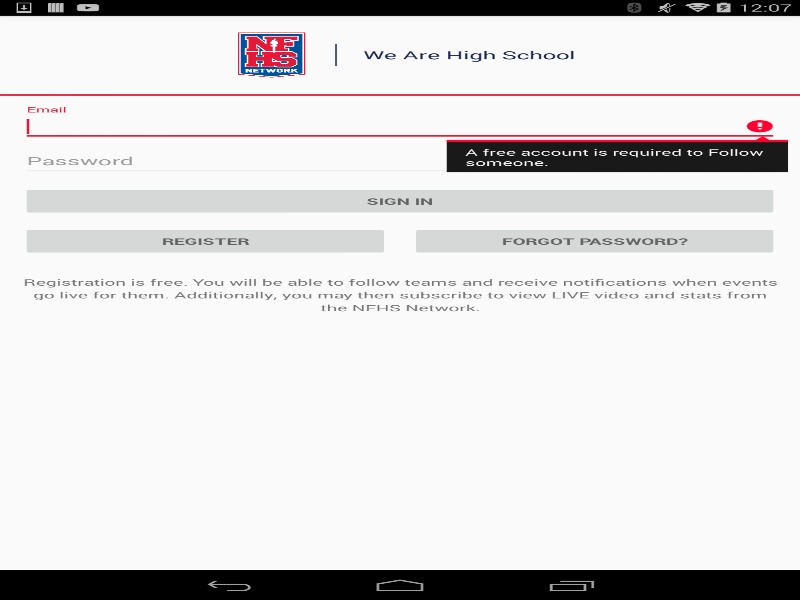Button: (21, 186, 778, 216), (21, 226, 389, 256), (410, 226, 778, 256)
Input: (21, 147, 778, 176), (21, 112, 778, 140)
